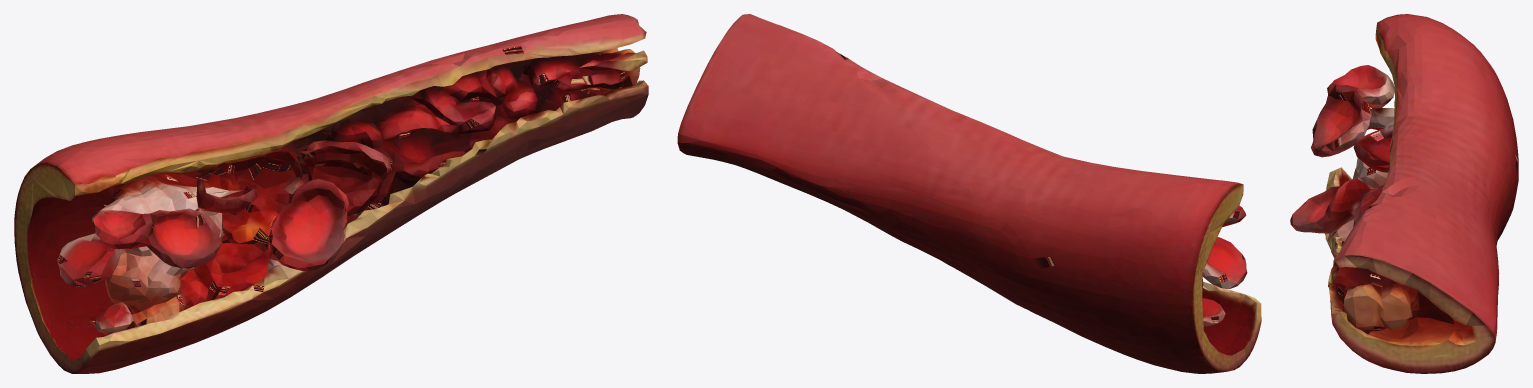
File: clogged-artery.glb
3 views of the same model, side by side, from view 1: azimuth 30°, elevation 25°; view 2: azimuth 150°, elevation 25°; view 3: azimuth 270°, elevation 25° (orthographic). The views are drawn at different scales.
Parts seen in each view (by area): view 1: CloggedArtery; view 2: CloggedArtery; view 3: CloggedArtery.
Part boxes in pixels (x1,y1,x2,y2): CloggedArtery: [14, 14, 648, 373]; CloggedArtery: [677, 14, 1261, 373]; CloggedArtery: [1290, 14, 1518, 373].
Size of the model in its own units: 0.01 by 0.00412 by 0.00352.
1 material, 1 textured.
